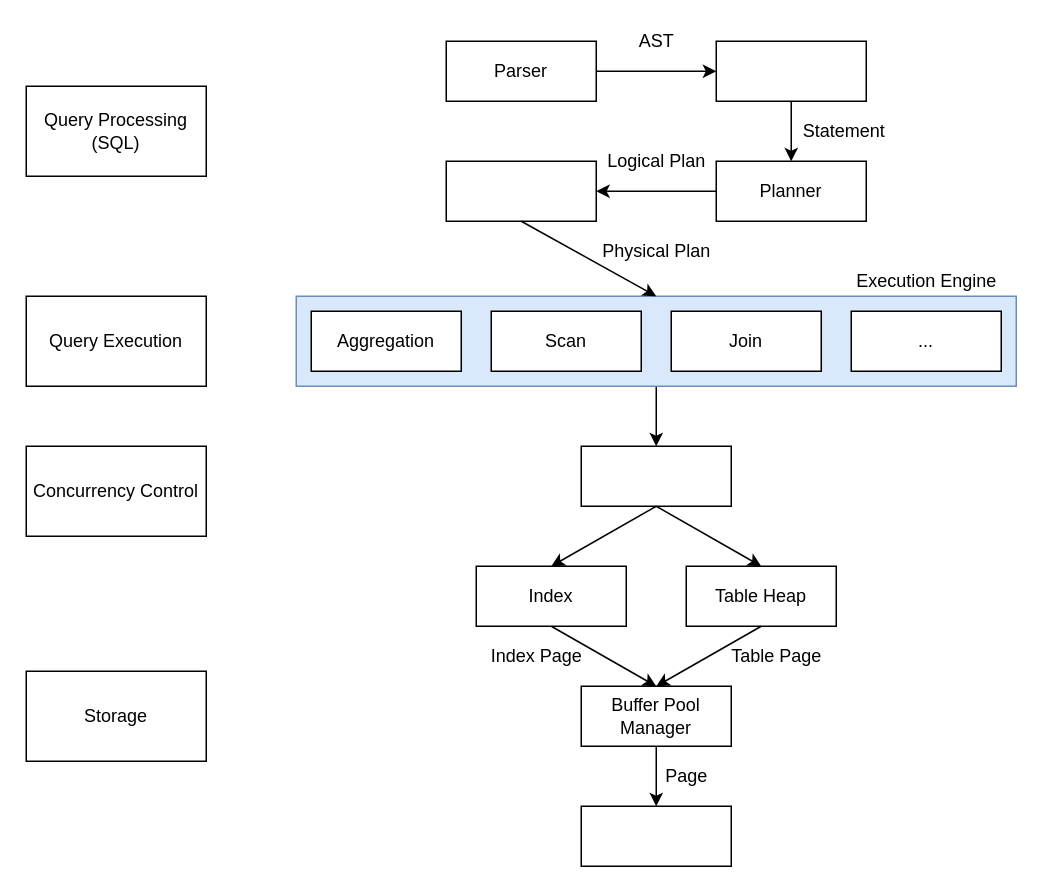
This 1043x893 diagram has some shape labels left out. The shapes that lost their labels are listed below. From the top down, each one's centre as x and y in pixels, then its label:
At pixel 790 70: "Binder".
At pixel 520 190: "Optimizer".
At pixel 655 475: "Transaction Manager".
At pixel 655 835: "Disk Manager".
